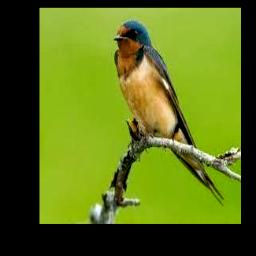Swallow: (114, 19, 225, 206)
